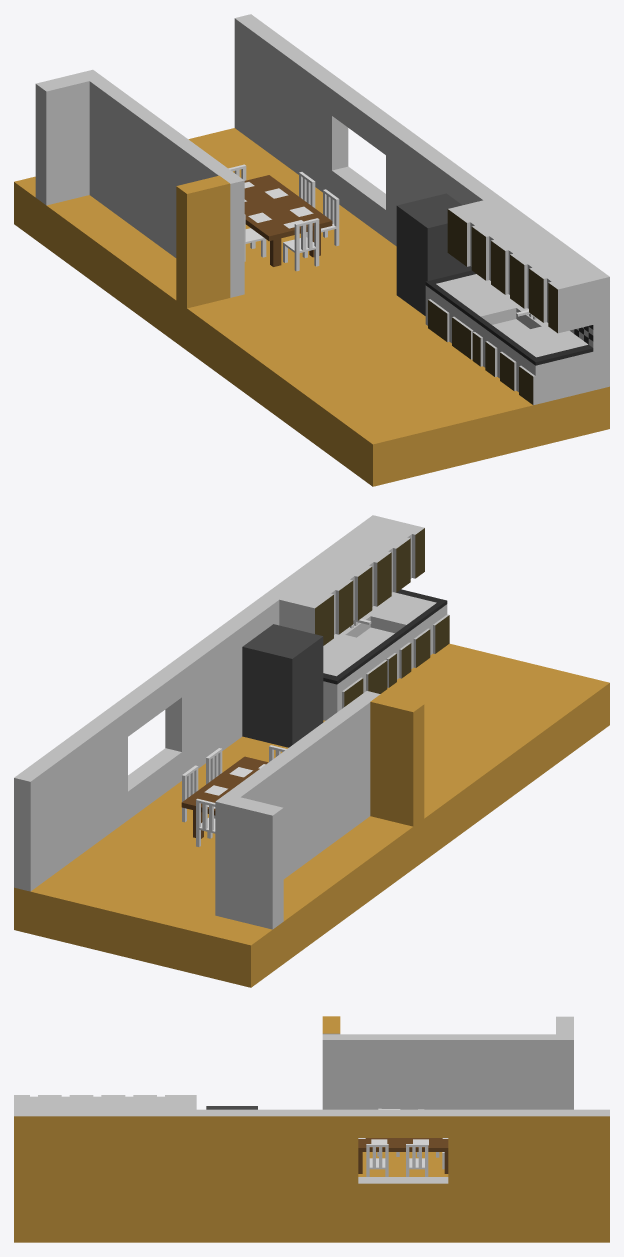
File: Kitchen.fbx
The picture shows the model from 3 angles, top to bottom: view 1: azimuth 30°, elevation 25°; view 2: azimuth 150°, elevation 25°; view 3: azimuth 270°, elevation 25°; orthographic projection. The views are drawn at different scales.
Visible parts, largest first — view 1: Cube.002, Cube.008, Cube, Cube.004, Cube.001; view 2: Cube.002, Cube.008, Cube, Cube.005; view 3: Cube.002, Cube, Cube.003, Cube.001.
Boxes of the visible parts, <box> form: Cube.002: <box>14,14,609,486</box>; Cube.008: <box>396,193,471,315</box>; Cube: <box>244,175,332,266</box>; Cube.004: <box>283,218,319,271</box>; Cube.001: <box>306,189,339,246</box>; Cube.002: <box>14,515,609,987</box>; Cube.008: <box>242,624,323,747</box>; Cube: <box>181,756,268,838</box>; Cube.005: <box>196,798,215,846</box>; Cube.002: <box>14,1016,609,1242</box>; Cube: <box>358,1138,448,1173</box>; Cube.003: <box>406,1144,428,1176</box>; Cube.001: <box>366,1144,388,1176</box>.
Bounding box in the file's own units: 1170 × 740 × 3068.
